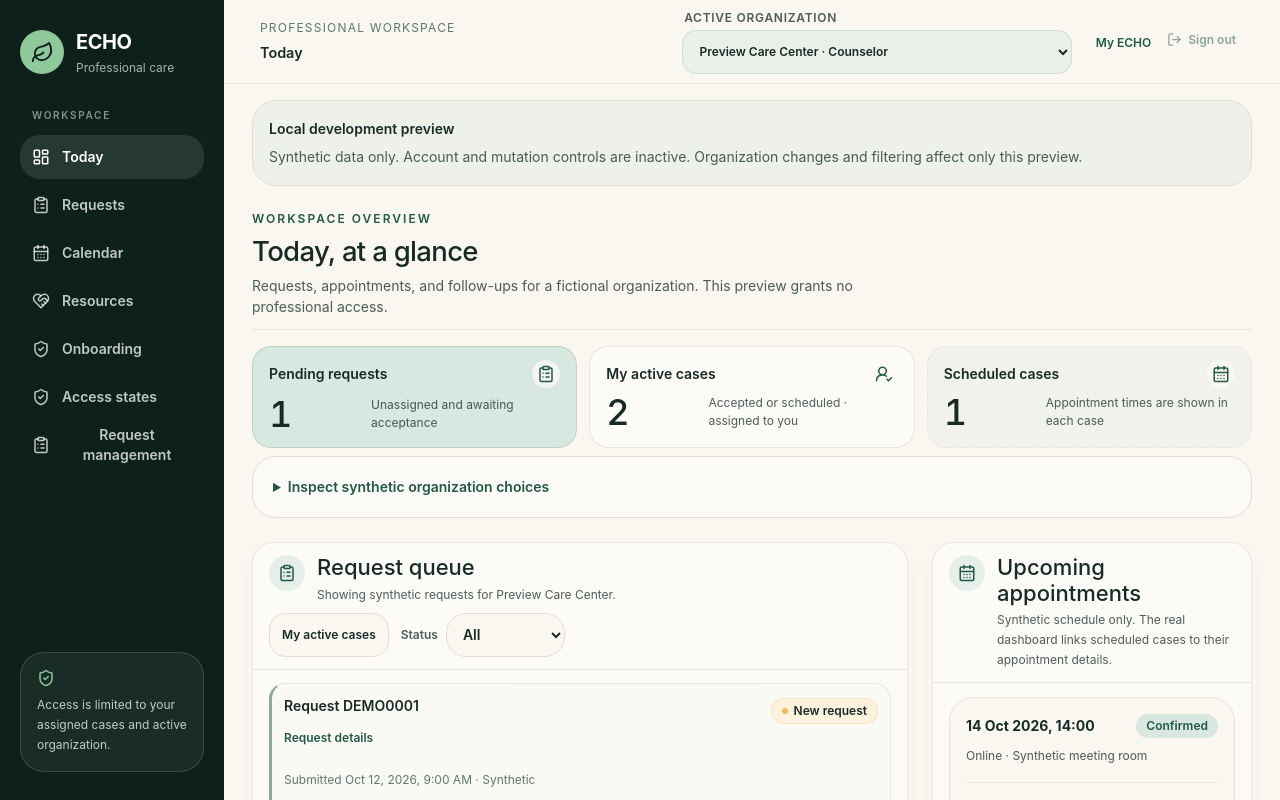
Scenario: synthetic professional workspace › switches organization cards locally while disabled memberships cannot alter the preview
Click the heading "Inspect synthetic organization choices". click: (418, 487)
box: [288,478,549,495]
(page scrolled)
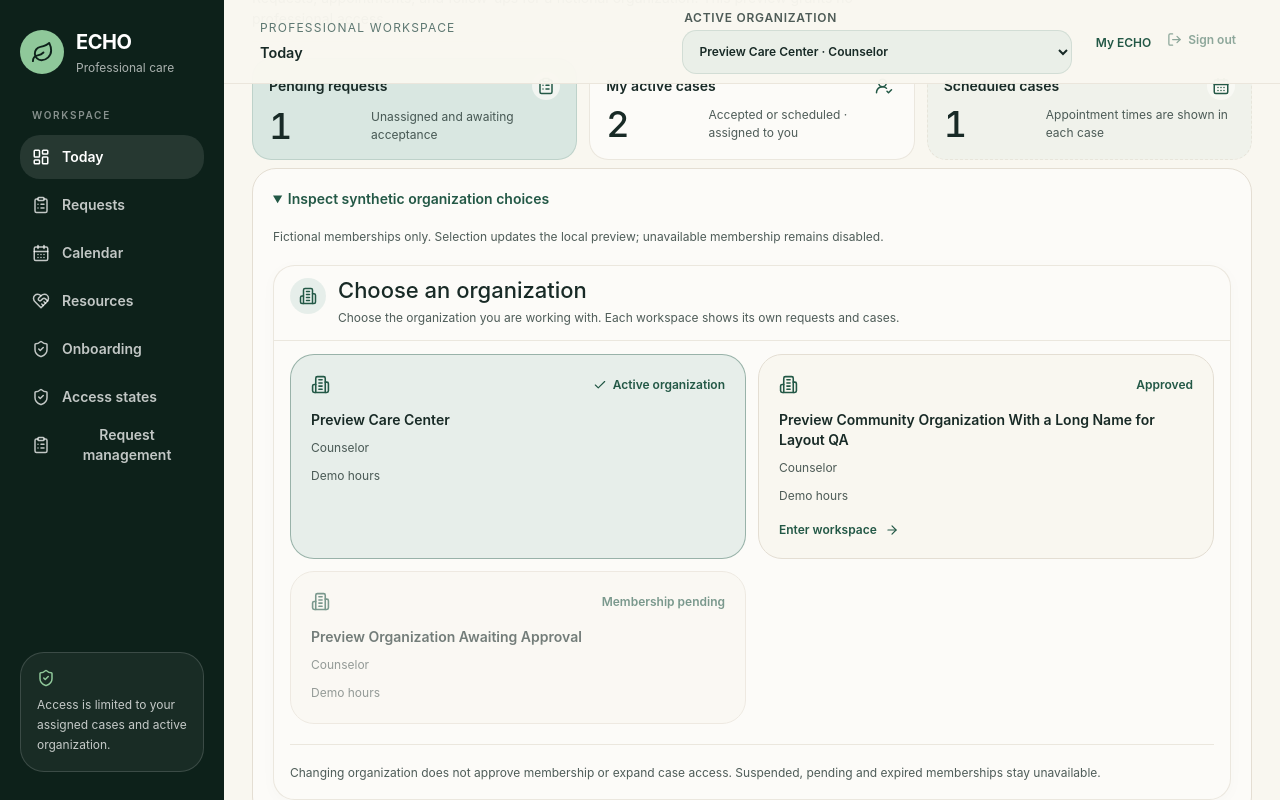
Expected: the button "Preview Organization Awaiting Approval" is disabled, [290,571,746,724]
Click the button "Preview Community Organization With a Long Name". click: (1165, 384)
box: [758,354,1214,559]
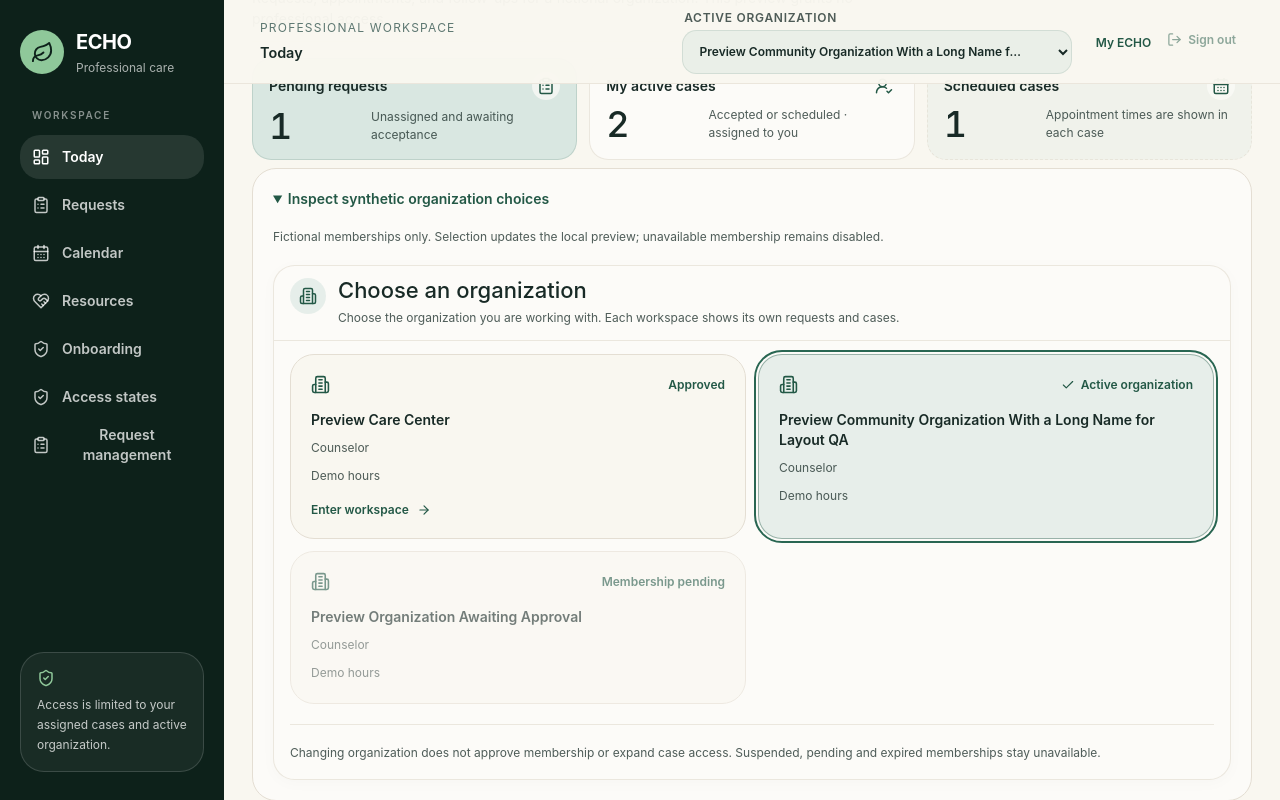
Expected: the heading "Request DEMO0001" is not shown
Expected: the dropdown labelled "Active organization" shows "Preview Community Organization With a Long Name for Layout QA · Counselor", [682,30,1072,74]
